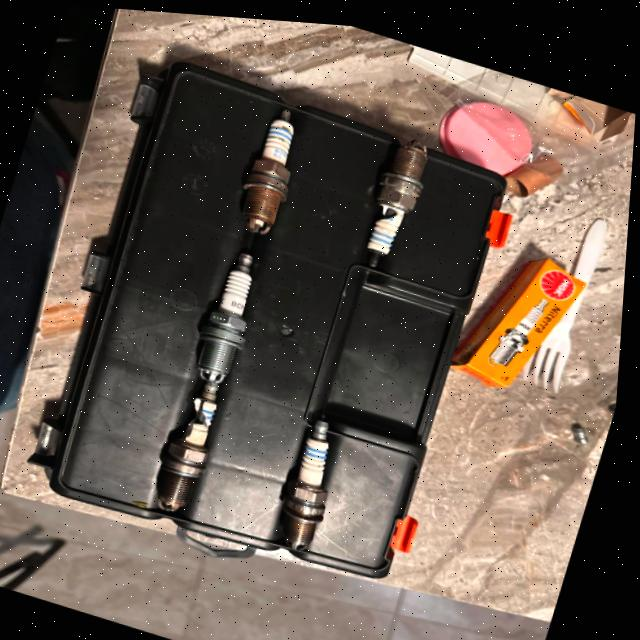damaged_spark-plug: (150, 369, 239, 518), (351, 120, 436, 271)
spark-plug: (186, 234, 276, 389), (228, 93, 314, 240), (275, 404, 355, 541)
